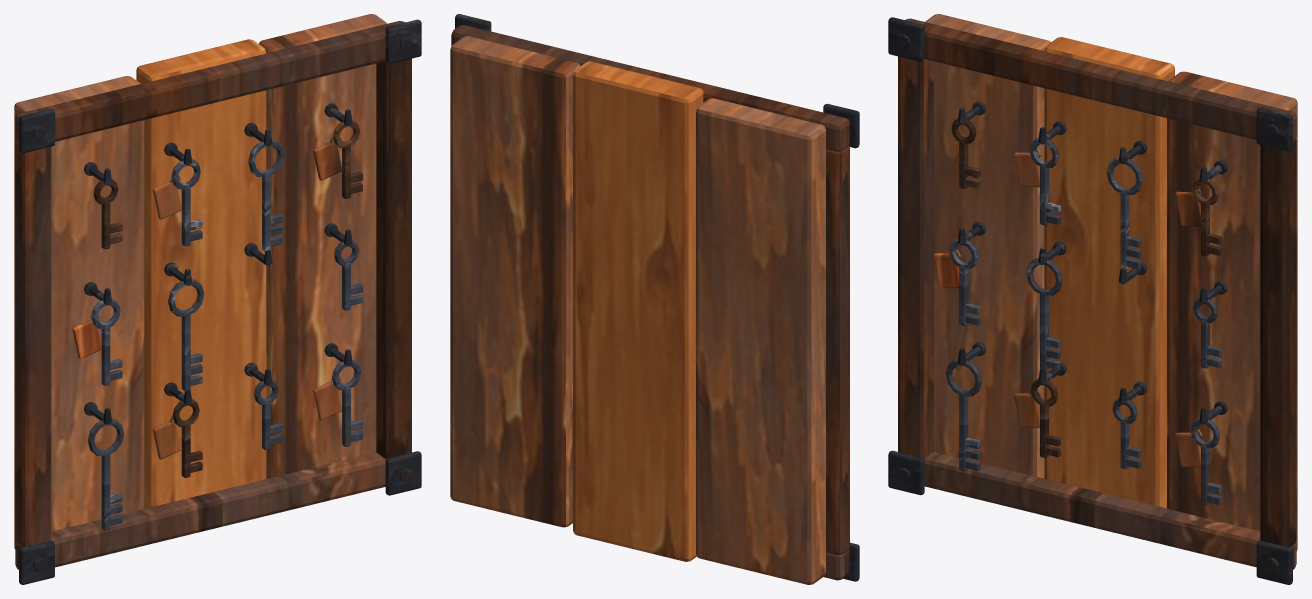
The model's file is op_key_board.glb.
3 renders of one model, left to right at view 1: azimuth 30°, elevation 25°; view 2: azimuth 150°, elevation 25°; view 3: azimuth 330°, elevation 25°, orthographic.
Parts seen in each view (by area): view 1: model; view 2: model; view 3: model.
Part boxes in pixels (x1,y1,x2,y2): model: (14,14,421,584); model: (450,14,859,584); model: (888,14,1297,584).
Bounding box in the file's own units: 0.7 × 0.78 × 0.112.
12 materials, 12 textured.
